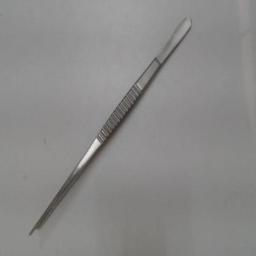DeBakey Dissector: (16, 8, 204, 246)
